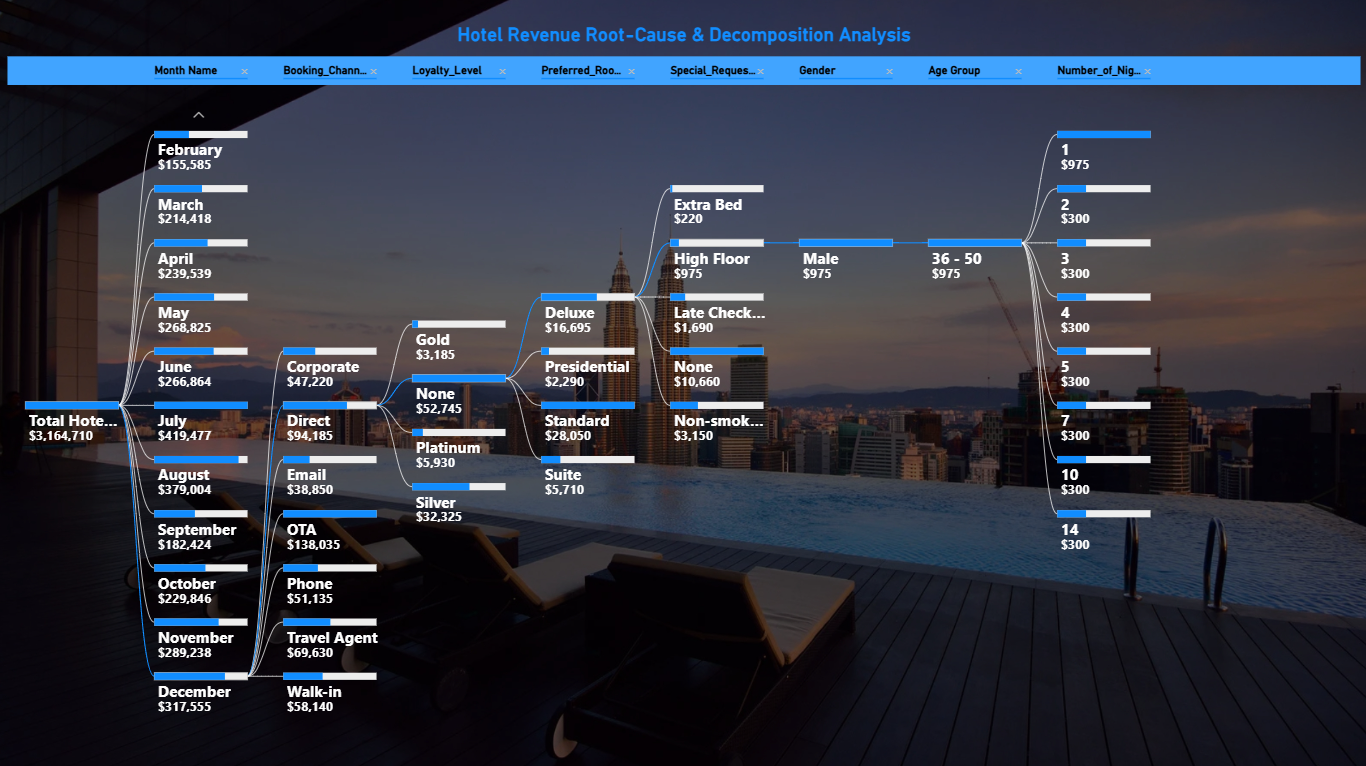

Layout of this report page (visuals, bound fields, positions):
{"tool":"powerbi","page":{"name":"Hotel Revenue Root-Cause & Decomposition Analysis","canvas":[1920,1080],"ordinal":5},"visuals":[{"type":"decompositionTreeVisual","title":"Hotel Revenue Root-Cause & Decomposition Analysis","fields":{"Analyze":["measure.Total Hotel Revenue"],"ExplainBy":["Dim_Date.Month Name","Reservations.Booking_Channel","Guests.Loyalty_Level","Guests.Preferred_Room_Type","Guests.Special_Requests","Guests.Gender","Guests.Age Group","Reservations.Number_of_Nights"]},"box":[0,18.5,1920.4,1061.1],"z":0}]}

Visuals, with their boxes in screenshot pixels (x1, y1, x2, y2), scaled from the page's 1920x1080 canvas onto the 1366x766 screenshot:
"Hotel Revenue Root-Cause & Decomposition Analysis" decompositionTreeVisual: <box>0,13,1365,765</box>
